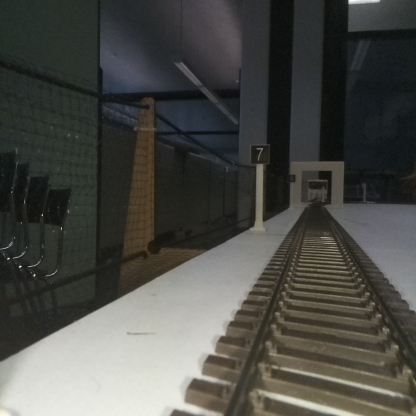black-info-7: (251, 144, 268, 232)
